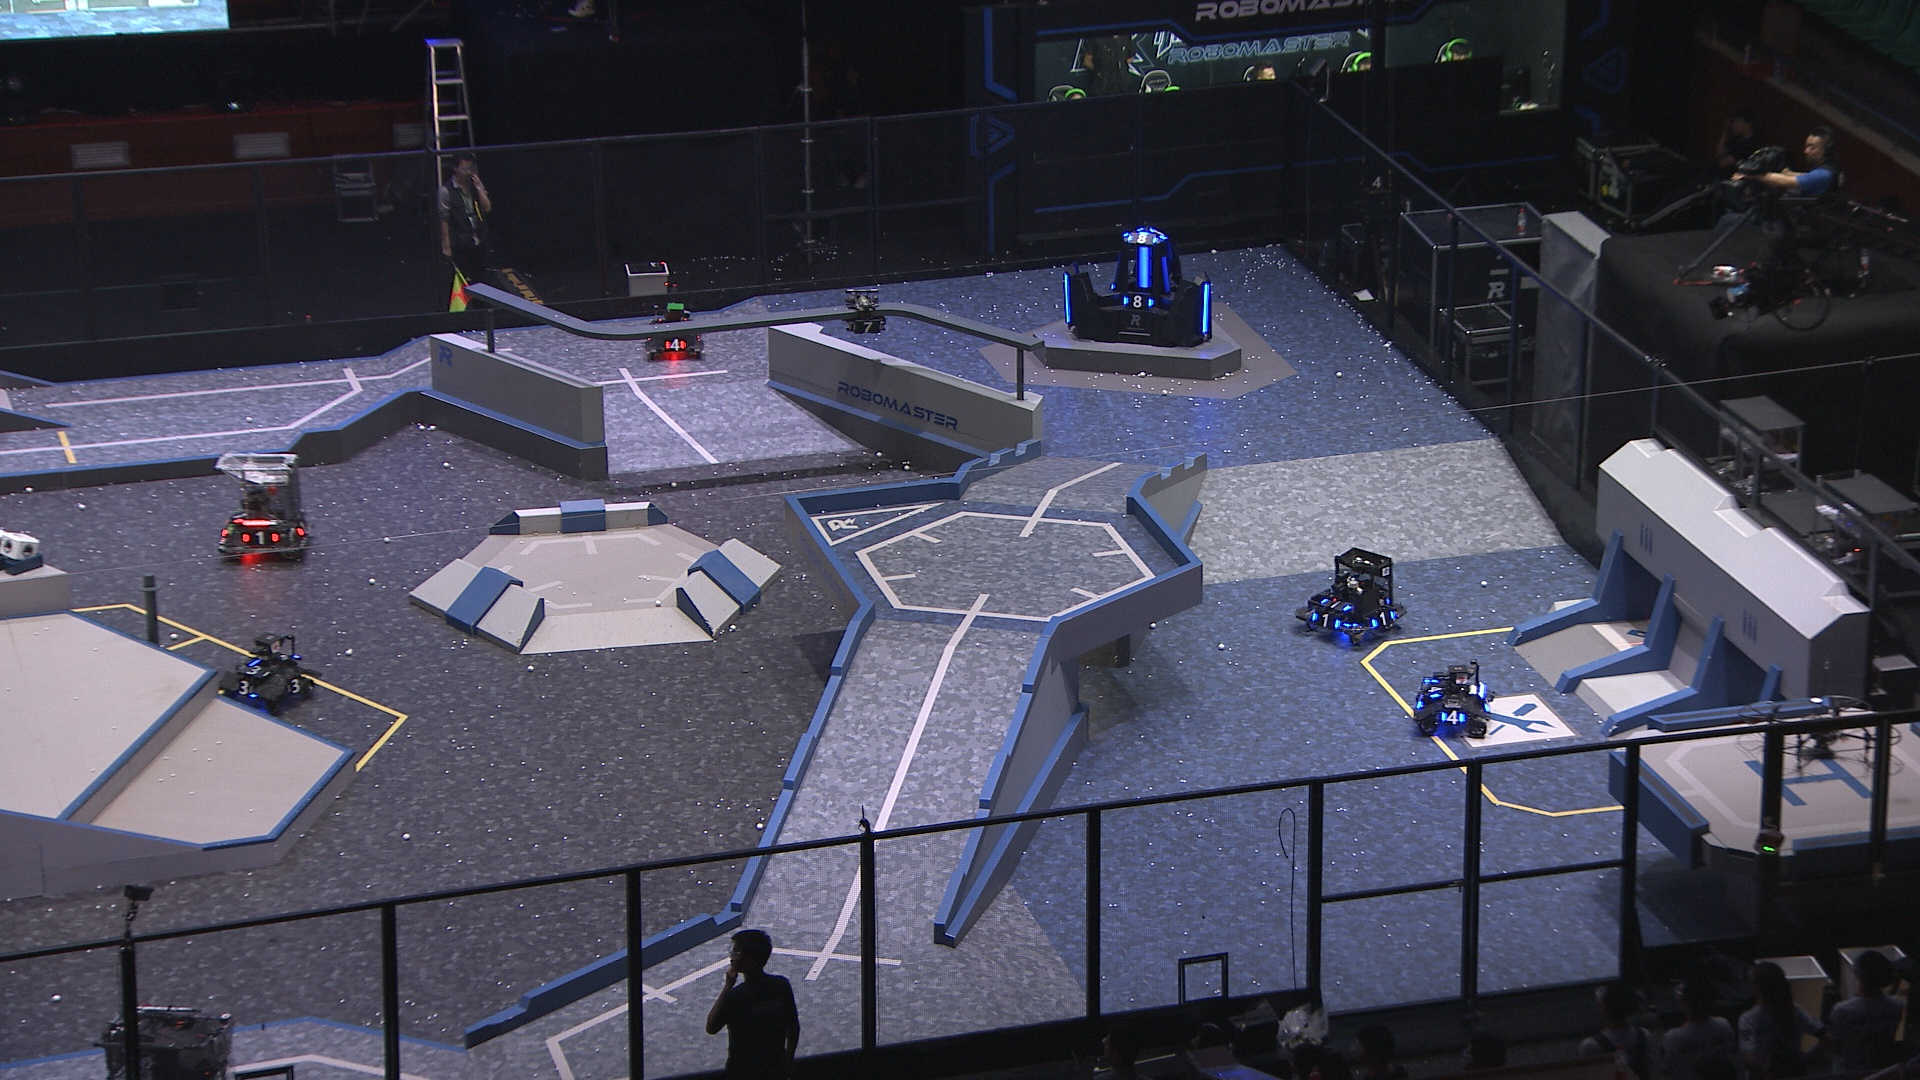armor: (237, 527, 280, 547), (1135, 245, 1153, 290), (1309, 611, 1342, 632), (1319, 595, 1356, 612), (1200, 282, 1212, 334), (237, 661, 272, 678), (1367, 608, 1396, 628), (1062, 272, 1072, 324), (1158, 256, 1172, 294), (851, 319, 884, 335), (1121, 294, 1155, 309), (1127, 232, 1160, 247), (1439, 708, 1466, 725), (233, 679, 255, 698), (1425, 680, 1444, 700), (662, 338, 686, 352), (229, 508, 247, 527), (285, 678, 305, 694), (294, 518, 309, 537)
base: (1060, 225, 1215, 347)
car: (87, 1002, 237, 1080), (212, 448, 314, 560), (1298, 546, 1410, 645), (218, 632, 320, 717), (1414, 659, 1493, 740), (641, 301, 707, 361)
watcher: (840, 286, 887, 335)
